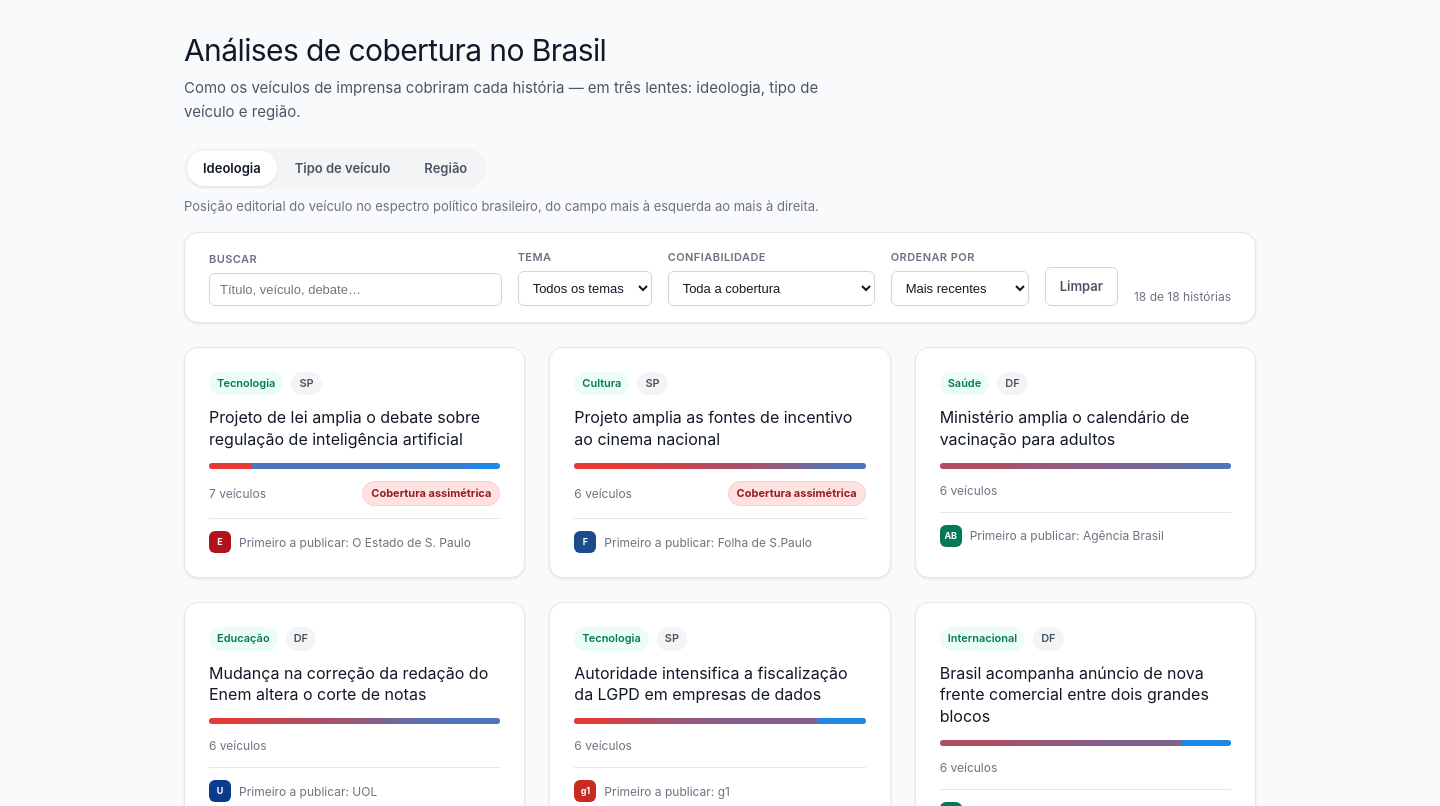
Test: AnalysesView › mostra estado vazio quando nada corresponde
Type "zzzznaoexiste" into the search field labelled "Buscar" at (355, 289), box [209,273,502,306]
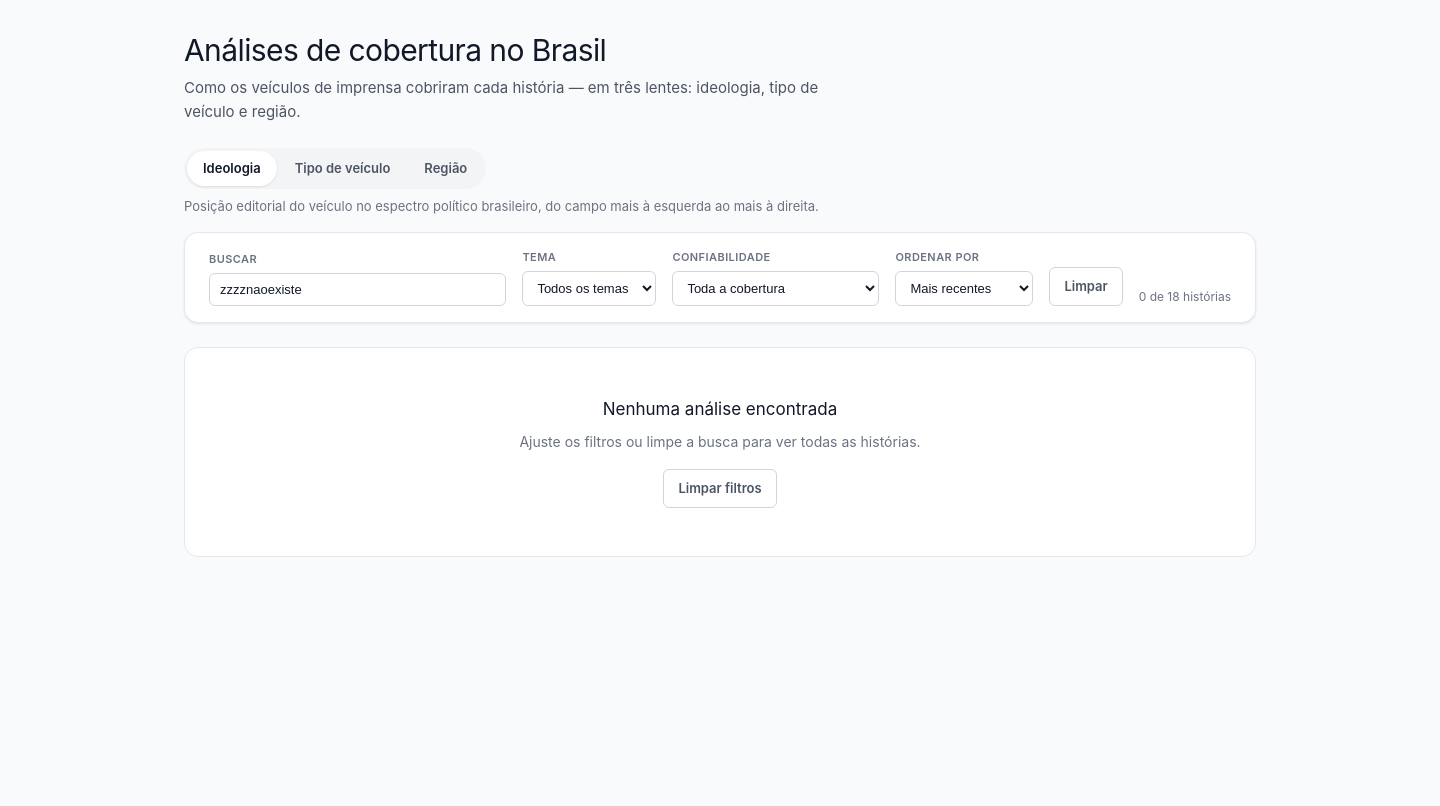
Check: the element with test id "empty" is shown, box [184,347,1256,557]
